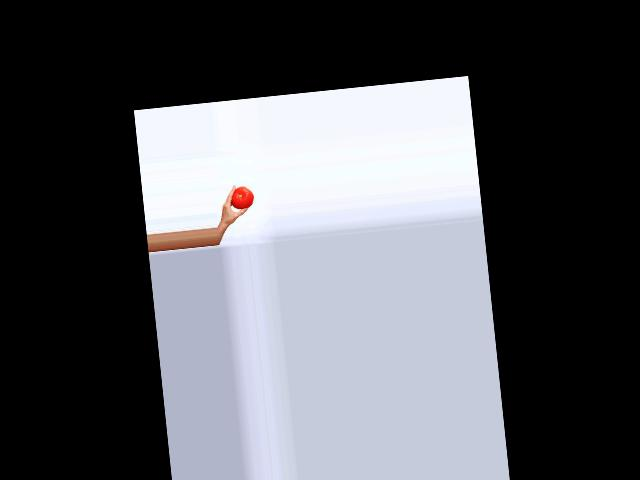tomato: (230, 185, 254, 209)
